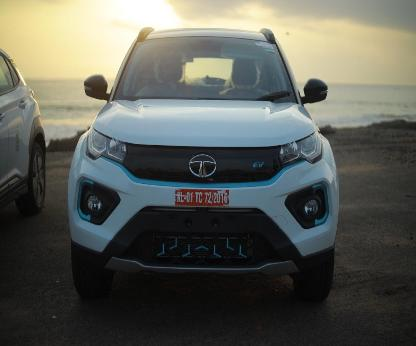car: (58, 22, 358, 308)
